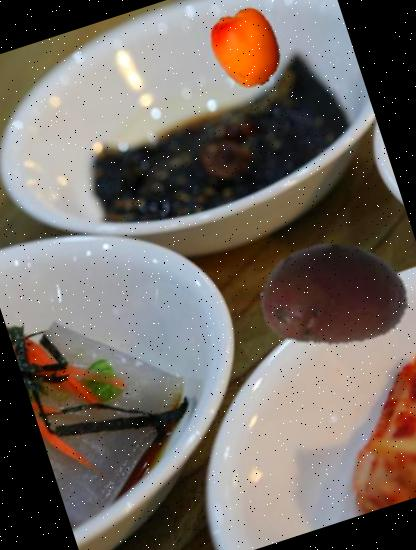Apricot: (197, 0, 298, 98)
Potato: (240, 200, 416, 388)
